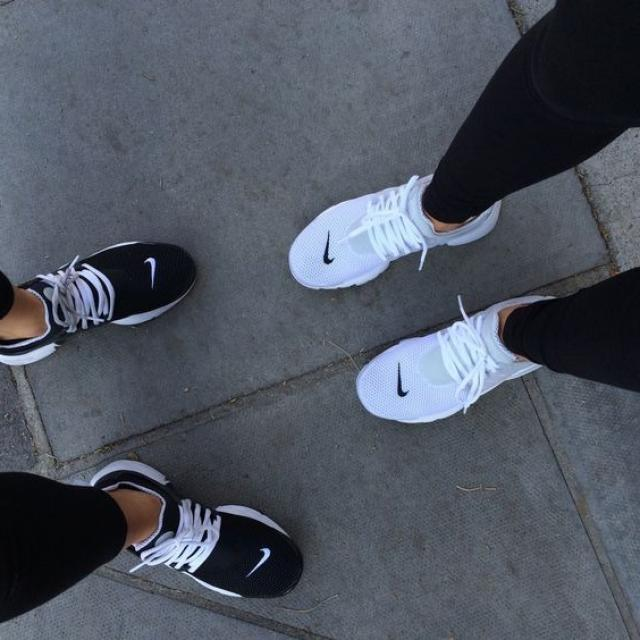nike: (243, 540, 274, 585), (392, 358, 413, 402), (319, 227, 340, 270), (143, 251, 162, 291)
